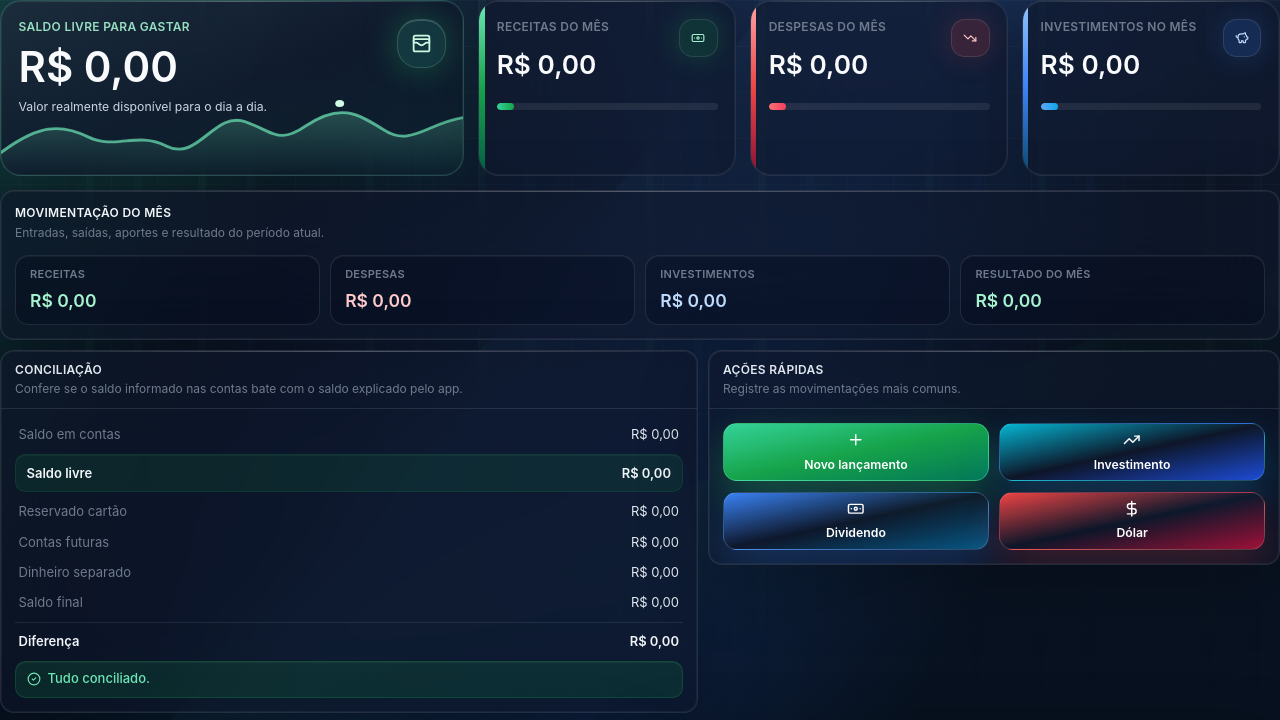
Dashboard quick actions › abre modal de novo lancamento
Click the button with aria-label "novo lancamento". click: x=856, y=464
box: [723,424,989,482]
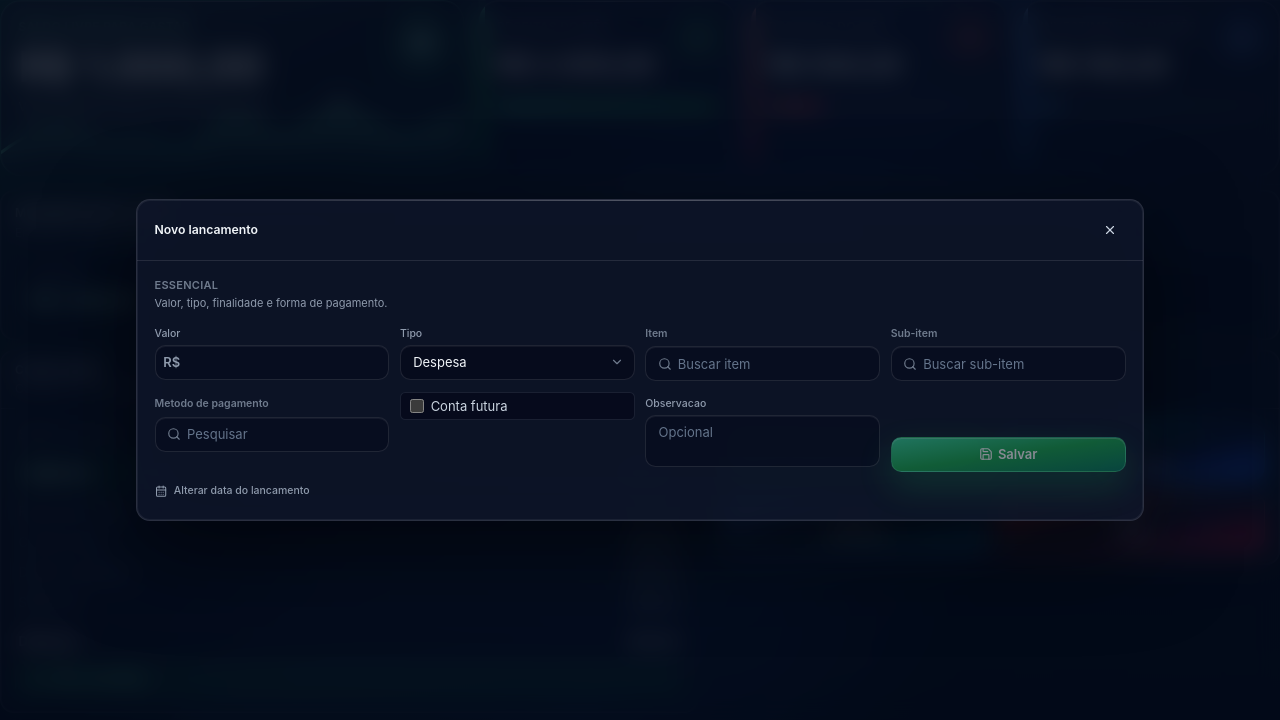
Check: the heading "Novo lancamento" is shown, box [154,222,258,239]
